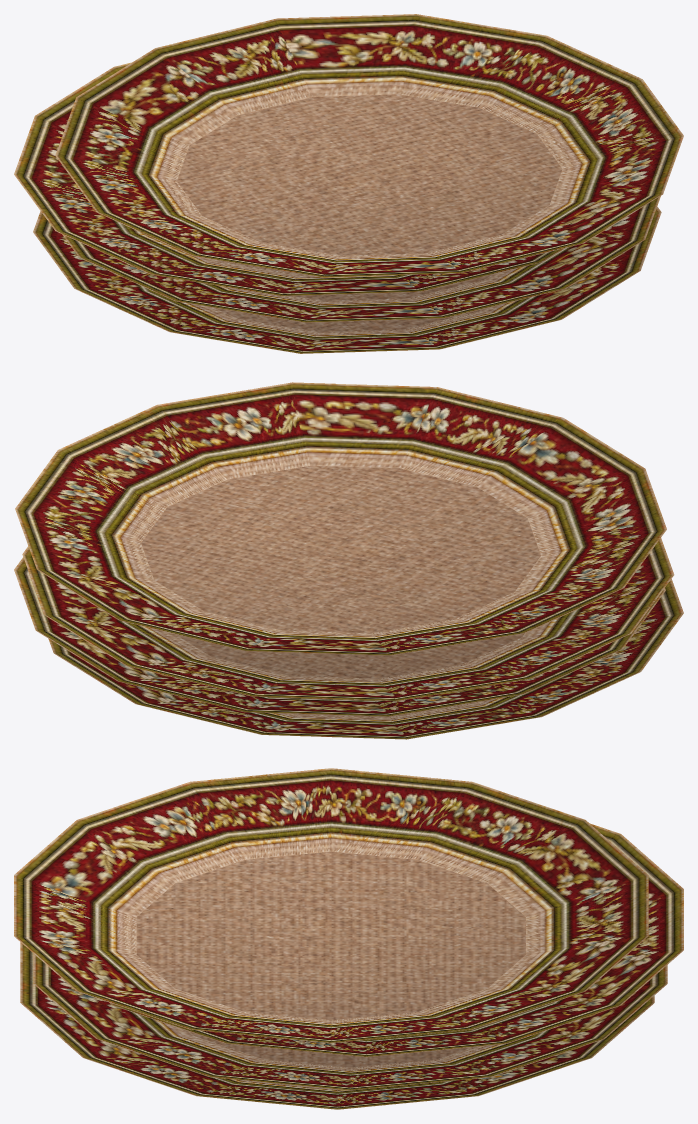
Rendered from mm9_deco_platestack2.glb.
3 views of the same model, one above another, from view 1: azimuth 30°, elevation 25°; view 2: azimuth 150°, elevation 25°; view 3: azimuth 270°, elevation 25° (orthographic). The views are drawn at different scales.
Visible parts, largest first — view 1: Platestack2; view 2: Platestack2; view 3: Platestack2.
Boxes of the visible parts, left/top/right/bottom form: Platestack2: left=14, top=14, right=683, bottom=353; Platestack2: left=14, top=382, right=683, bottom=739; Platestack2: left=14, top=768, right=683, bottom=1109.
Bounding box in the file's own units: 0.5223 × 0.0926 × 0.5148.
1 material, 1 textured.
